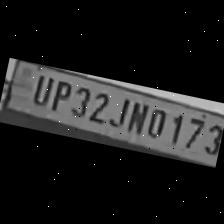0: (140, 101, 170, 139)
1: (162, 106, 186, 144)
2: (84, 84, 112, 124)
3: (66, 80, 92, 118), (198, 116, 223, 154)
7: (178, 111, 206, 151)
J: (104, 90, 128, 128)
N: (122, 96, 150, 136)
P: (46, 74, 72, 113)
U: (26, 69, 54, 108)
